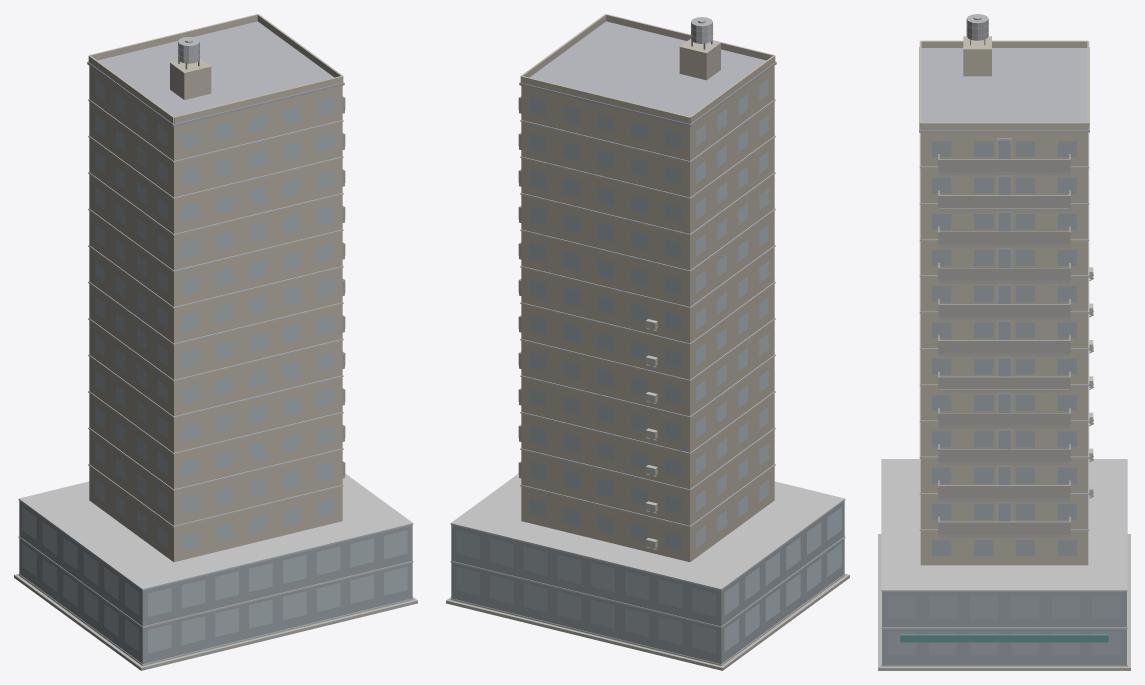
File: 09_residential_high-09.glb
3 renders of one model, left to right at view 1: azimuth 30°, elevation 25°; view 2: azimuth 150°, elevation 25°; view 3: azimuth 270°, elevation 25°, orthographic.
Size of the model in its own units: 24.6 by 48.47 by 19.6.
